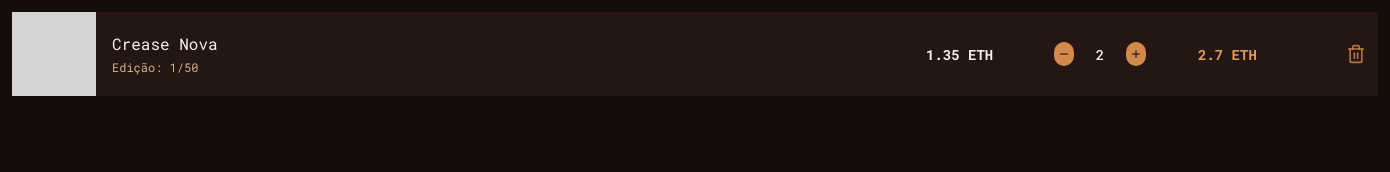
Test: CartLine › o 409 do PATCH aparece na própria linha com o texto da API
This screenshot has width=1390, height=172.
Click the button named "Aumentar quantidade": (1136, 54) [1114,32,1158,76]
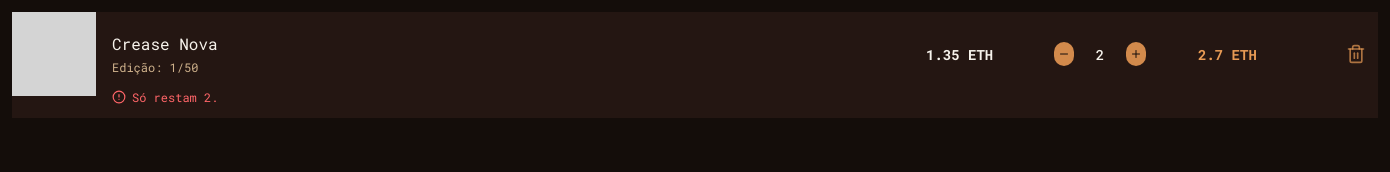
Result: the message reads "Só restam 2." at [132,89,218,105]
